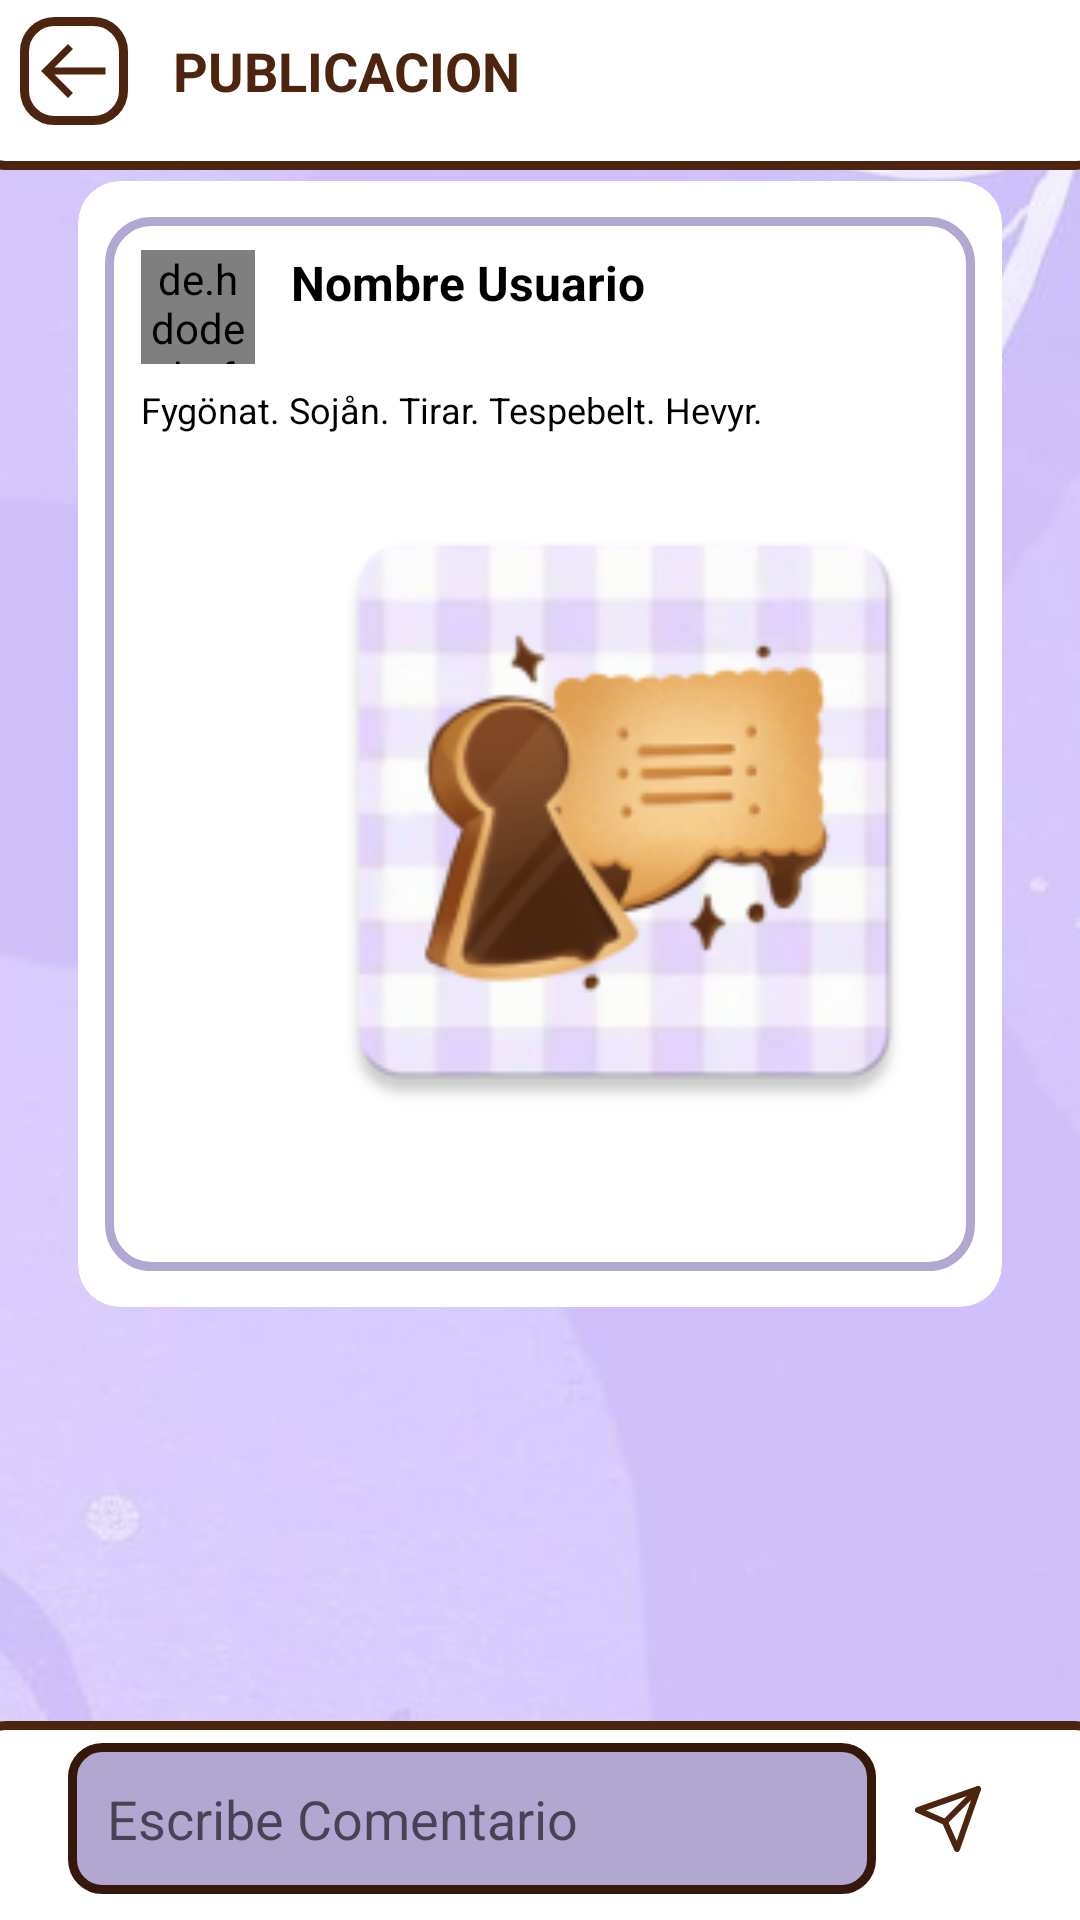

Icons on this 1080x1920 Android screen, each with its box as box(x1, y1, x2, y2):
arrow back brown: box(20, 17, 128, 125)
send brown: box(915, 1786, 981, 1852)
